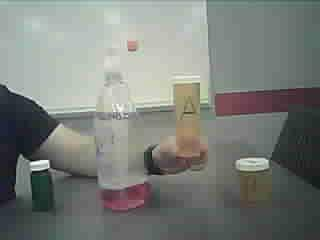Bottle A: (165, 71, 210, 170)
Bottle B: (232, 150, 282, 226)
Bottle C: (27, 155, 55, 214)
hazard: (90, 27, 151, 222)
